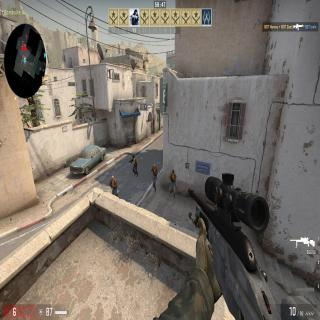T-Body: (169, 169, 177, 198), (151, 163, 158, 192), (110, 175, 118, 198), (130, 154, 138, 176)
T-Head: (112, 175, 115, 181), (153, 163, 156, 168), (132, 154, 134, 159), (172, 170, 174, 174)
